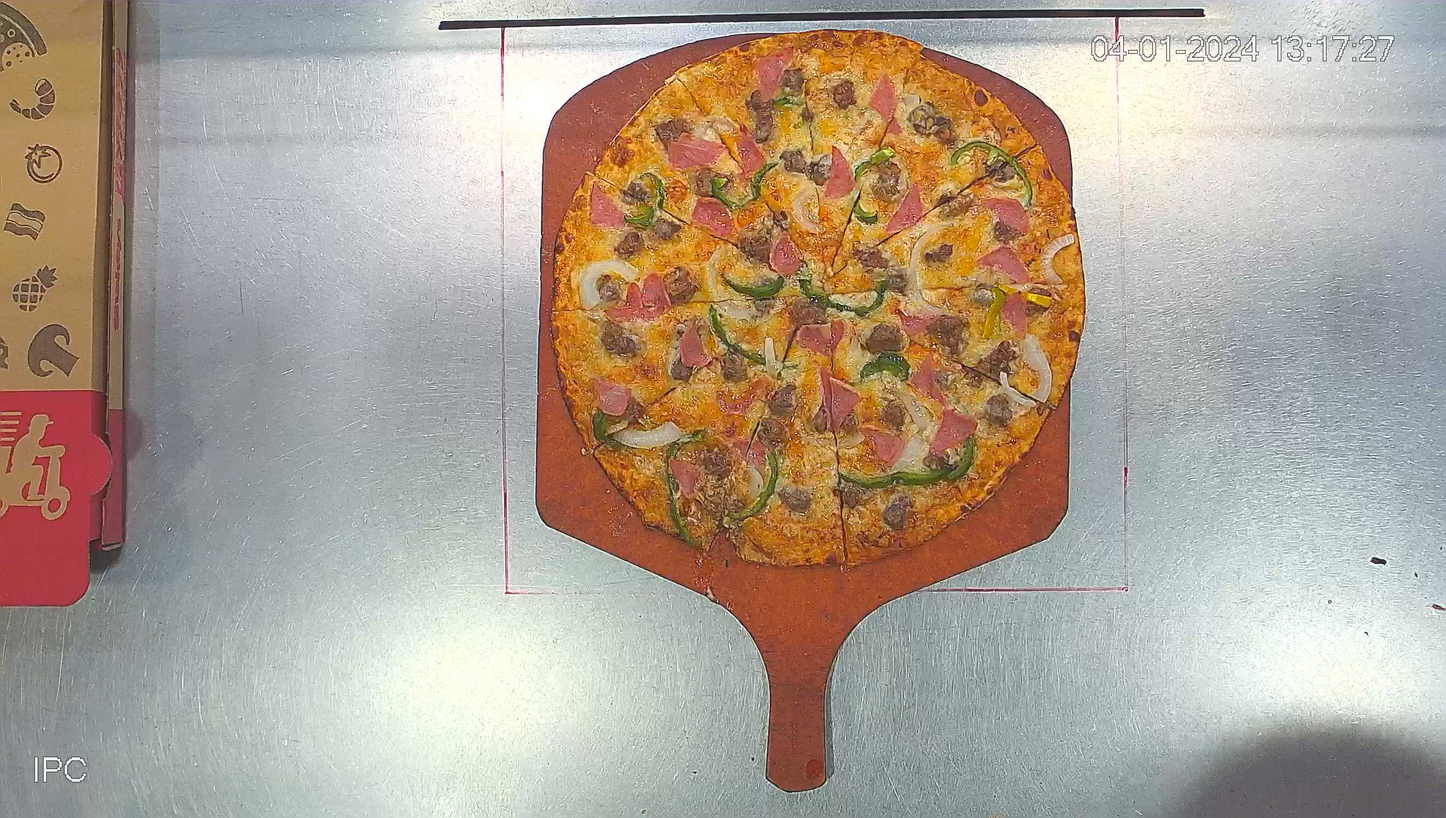hawaiian: (550, 29, 1086, 567)
